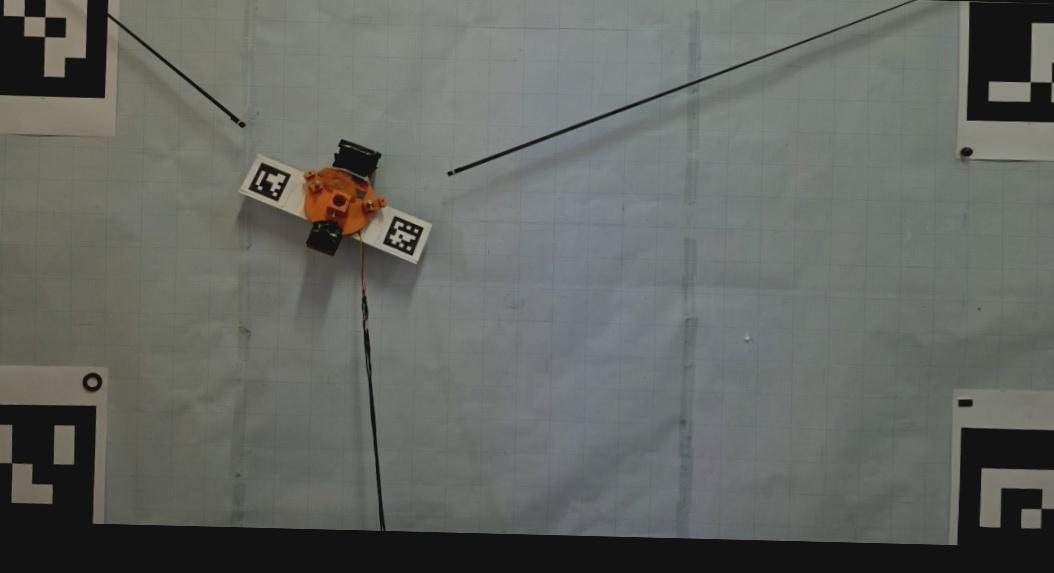robot: (303, 137, 388, 259)
